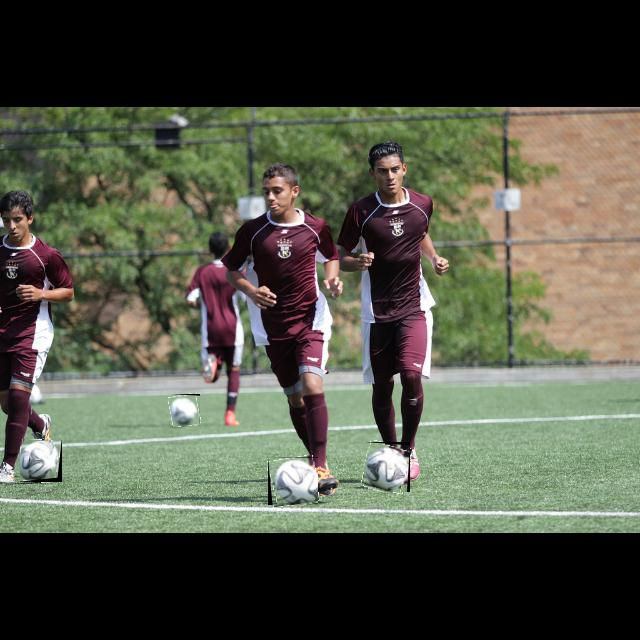Football: (268, 457, 318, 505), (364, 442, 410, 492), (20, 440, 62, 482), (170, 394, 200, 426)
